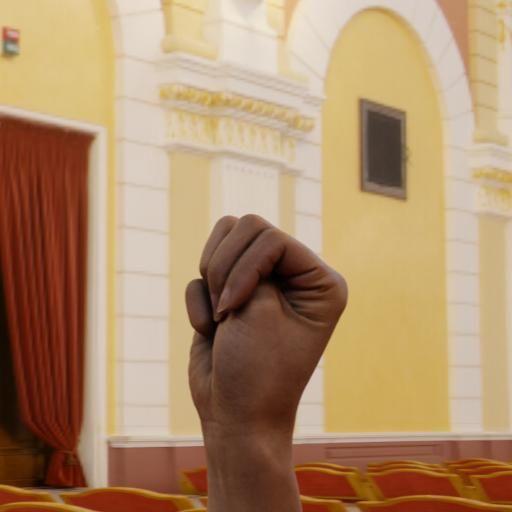M: (154, 186, 460, 492)
